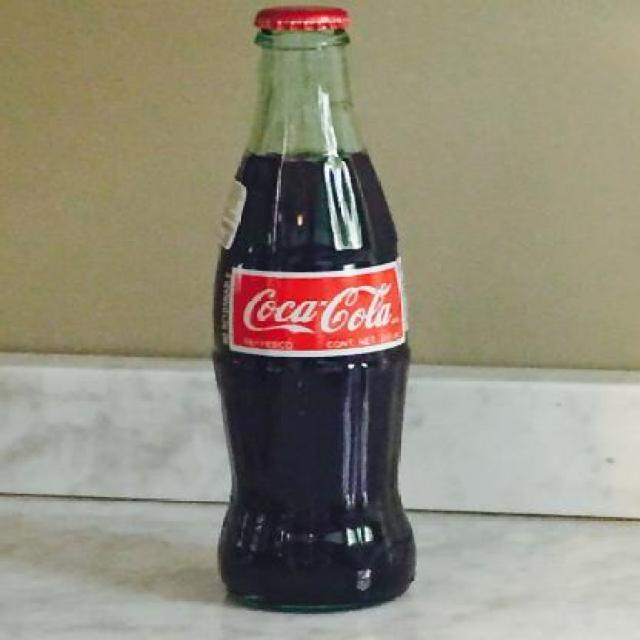Coke: (209, 6, 423, 617)
